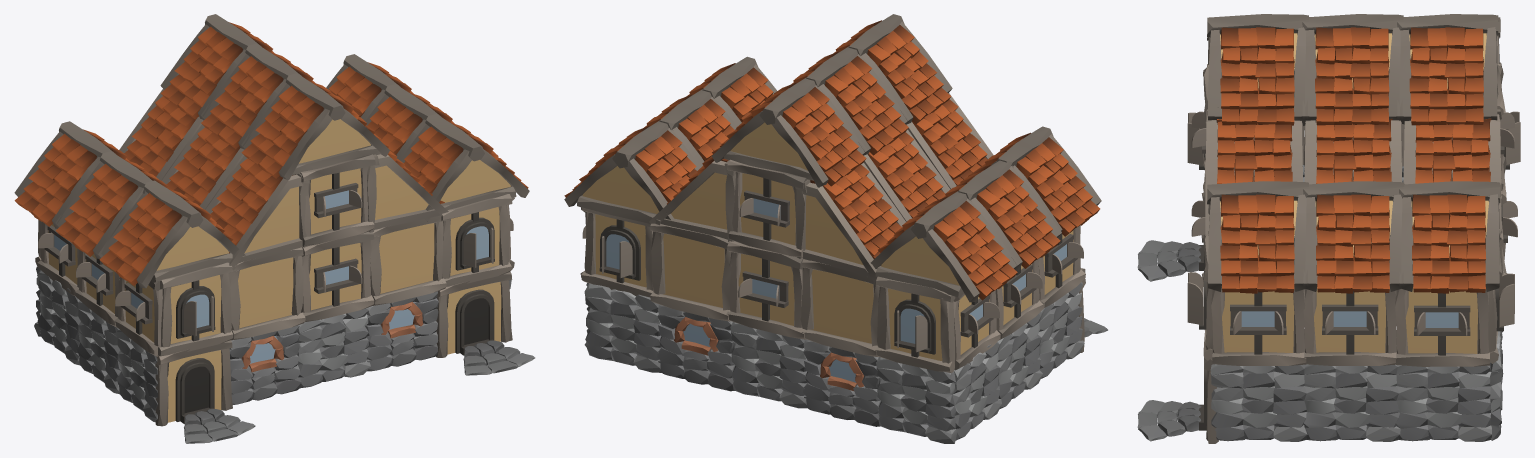
Rendered from big_building1.fbx.
3 renders of one model, left to right at view 1: azimuth 30°, elevation 25°; view 2: azimuth 150°, elevation 25°; view 3: azimuth 270°, elevation 25°, orthographic. The views are drawn at different scales.
Visible parts, largest first — view 1: big_building1; view 2: big_building1; view 3: big_building1.
Part boxes in pixels (x1,y1,x2,y2): big_building1: (14,14,535,443); big_building1: (564,14,1107,443); big_building1: (1137,14,1520,443).
Size of the model in its own units: 28.39 by 18.74 by 19.97.
